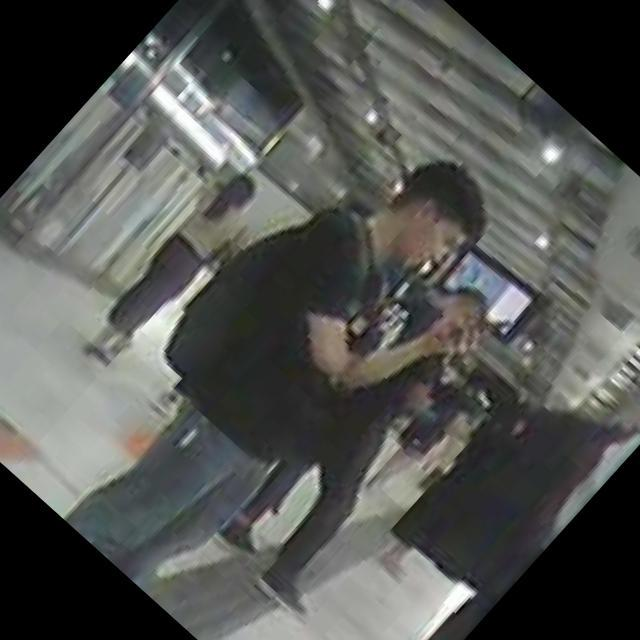person: (45, 110, 559, 640), (206, 265, 546, 622), (68, 158, 274, 378), (361, 362, 496, 504)
